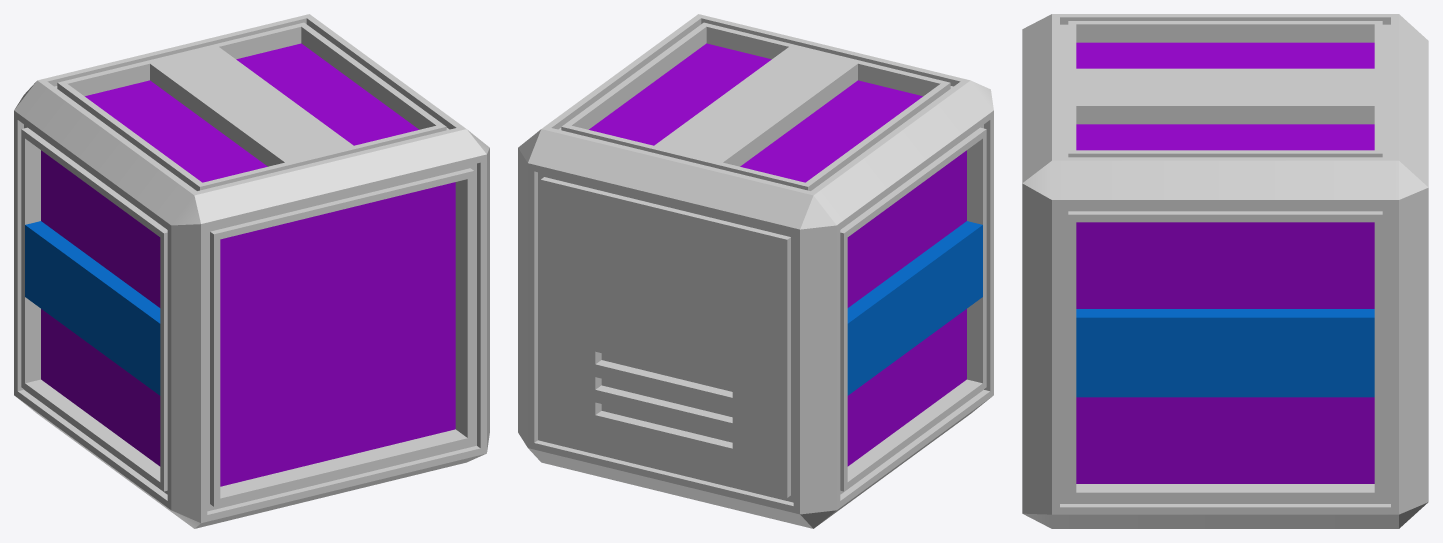
File: display box_01.fbx
3 views of the same model, side by side, from view 1: azimuth 30°, elevation 25°; view 2: azimuth 150°, elevation 25°; view 3: azimuth 270°, elevation 25° (orthographic). The views are drawn at different scales.
Visible parts, largest first — view 1: display box_01, Object001, Object002; view 2: Object001, display box_01, Object002; view 3: Object001, display box_01, Object002.
Part boxes in pixels (x1=…): display box_01: x1=25, y1=43, x2=455, y2=486; Object001: x1=14, y1=14, x2=489, y2=528; Object002: x1=150, y1=47, x2=353, y2=166; Object001: x1=518, y1=14, x2=993, y2=528; display box_01: x1=589, y1=43, x2=982, y2=466; Object002: x1=654, y1=47, x2=857, y2=166; Object001: x1=1022, y1=14, x2=1428, y2=528; display box_01: x1=1076, y1=42, x2=1374, y2=483; Object002: x1=1076, y1=68, x2=1374, y2=124.
Size of the model in its own units: 10 by 10 by 10.
